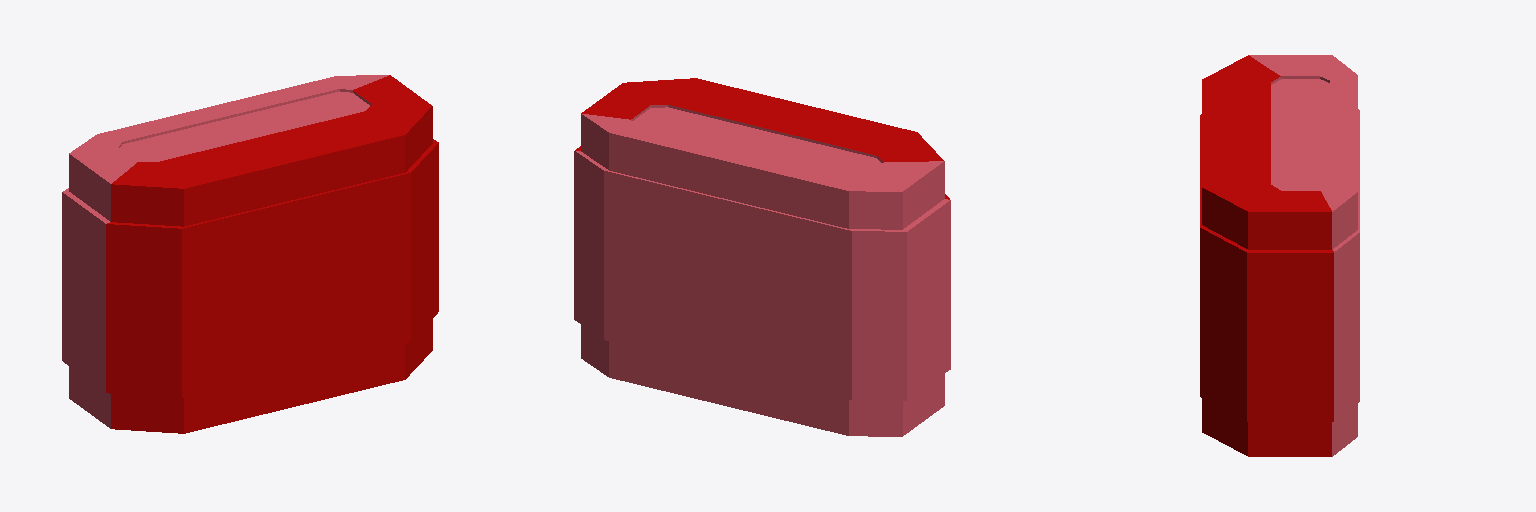
Rendered from tank_red_chassis.obj.
3 renders of one model, left to right at view 1: azimuth 30°, elevation 25°; view 2: azimuth 150°, elevation 25°; view 3: azimuth 270°, elevation 25°, orthographic.
Visible parts, largest first — view 1: tank_body.005; view 2: tank_body.005; view 3: tank_body.005.
Boxes of the visible parts, <box> form: tank_body.005: <box>62,75,438,433</box>; tank_body.005: <box>574,78,950,436</box>; tank_body.005: <box>1200,55,1359,456</box>.
Size of the model in its own units: 49.47 by 34.79 by 20.71.